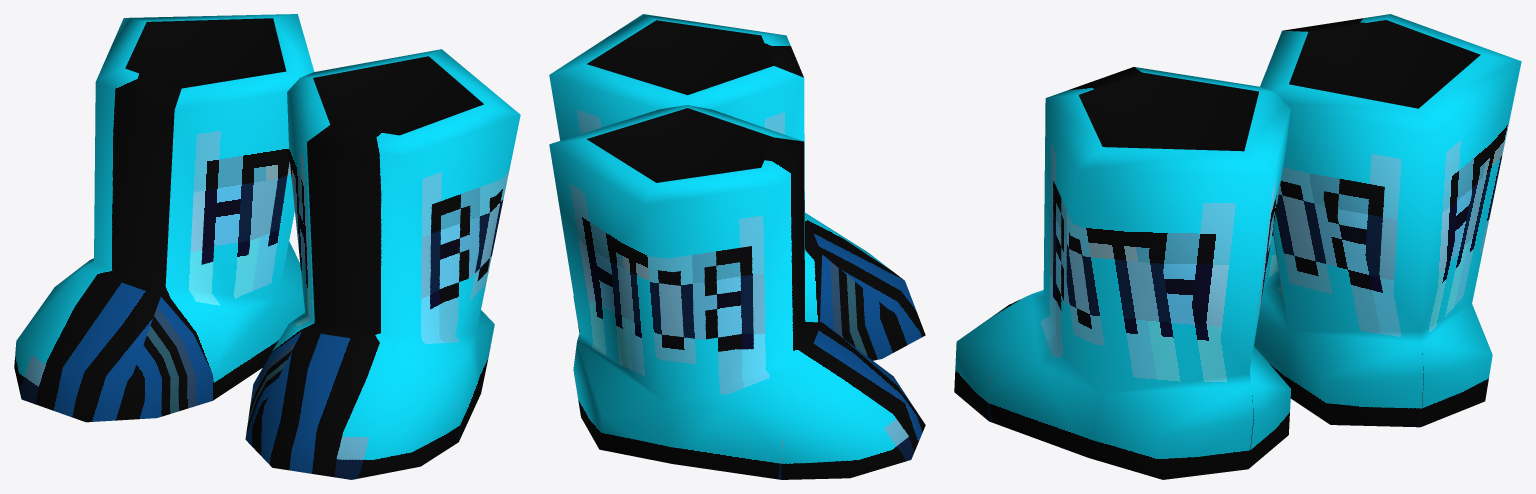
The model's file is mq_shoe_botH.dae.
3 renders of one model, left to right at view 1: azimuth 30°, elevation 25°; view 2: azimuth 150°, elevation 25°; view 3: azimuth 270°, elevation 25°, orthographic. The views are drawn at different scales.
Visible parts, largest first — view 1: mq_shoe_botH; view 2: mq_shoe_botH; view 3: mq_shoe_botH.
Boxes of the visible parts, <box> form: mq_shoe_botH: <box>14,14,520,479</box>; mq_shoe_botH: <box>549,14,925,479</box>; mq_shoe_botH: <box>954,14,1521,479</box>.
Bounding box in the file's own units: 15.52 × 10.64 × 17.3.
Materials: 1 (1 with a texture image).
